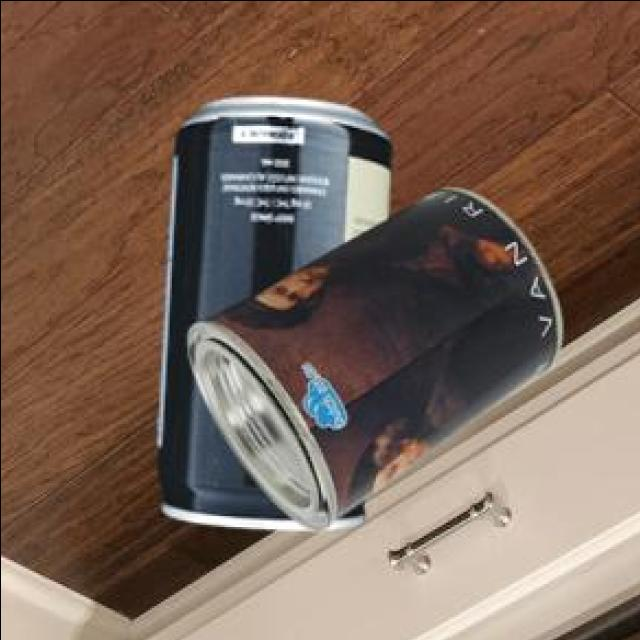logam: (192, 192, 564, 532), (159, 100, 396, 532)
